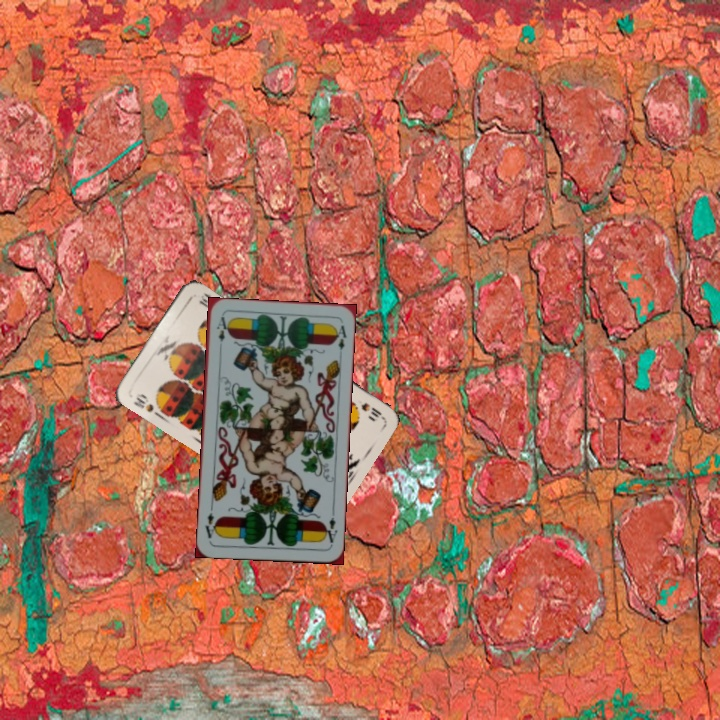EA: (320, 513, 340, 545), (212, 313, 230, 344)
S10: (129, 389, 163, 419), (356, 399, 384, 420)
